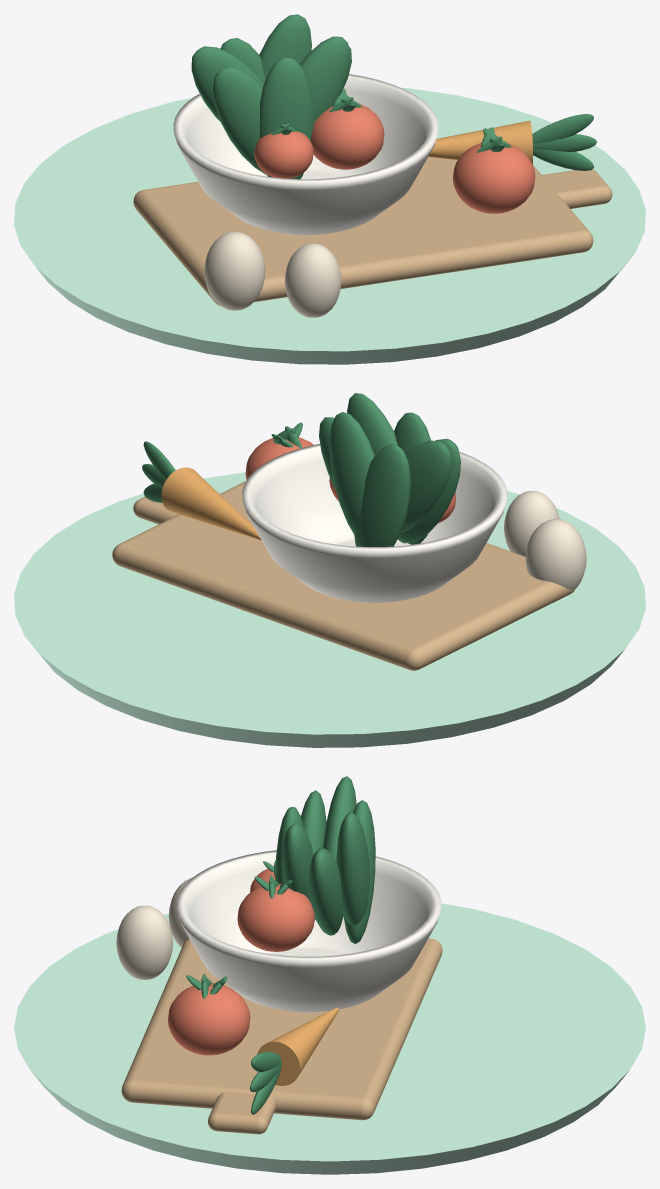
Rendered from fridgellio-dashboard.glb.
3 renders of one model, top to bottom at view 1: azimuth 30°, elevation 25°; view 2: azimuth 150°, elevation 25°; view 3: azimuth 270°, elevation 25°, orthographic.
Visible parts, largest first — view 1: Fridgellio dashboard illustration, bowl-food, vegetable-bowl; view 2: Fridgellio dashboard illustration, vegetable-bowl, bowl-food; view 3: Fridgellio dashboard illustration, vegetable-bowl, bowl-food.
Part boxes in pixels (bbox=[...]): Fridgellio dashboard illustration: bbox=[14, 87, 645, 364]; bowl-food: bbox=[191, 14, 384, 179]; vegetable-bowl: bbox=[173, 74, 438, 235]; Fridgellio dashboard illustration: bbox=[14, 422, 645, 747]; vegetable-bowl: bbox=[242, 444, 507, 602]; bowl-food: bbox=[319, 393, 460, 546]; Fridgellio dashboard illustration: bbox=[14, 877, 645, 1174]; vegetable-bowl: bbox=[176, 850, 441, 1012]; bowl-food: bbox=[237, 776, 375, 951].
Size of the model in its own units: 2.9 by 1.12 by 2.9.
